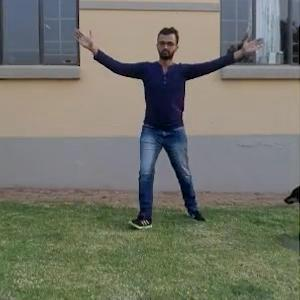takeoff: (67, 25, 238, 208)
